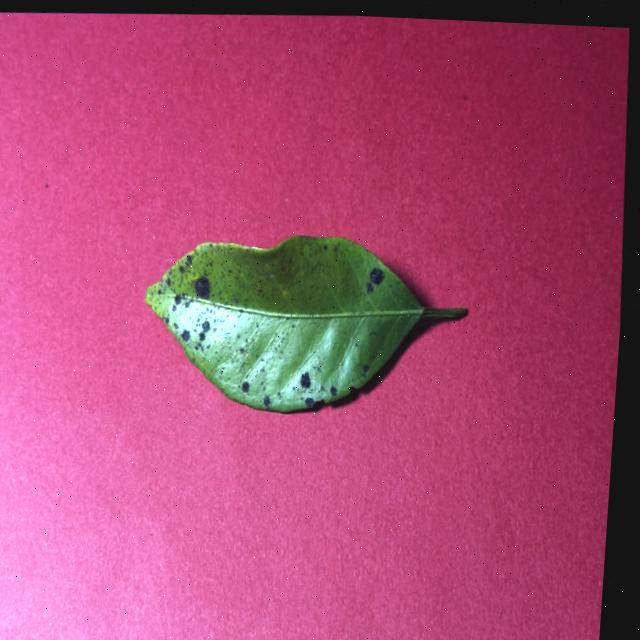sooty_mold: (145, 234, 465, 410)
